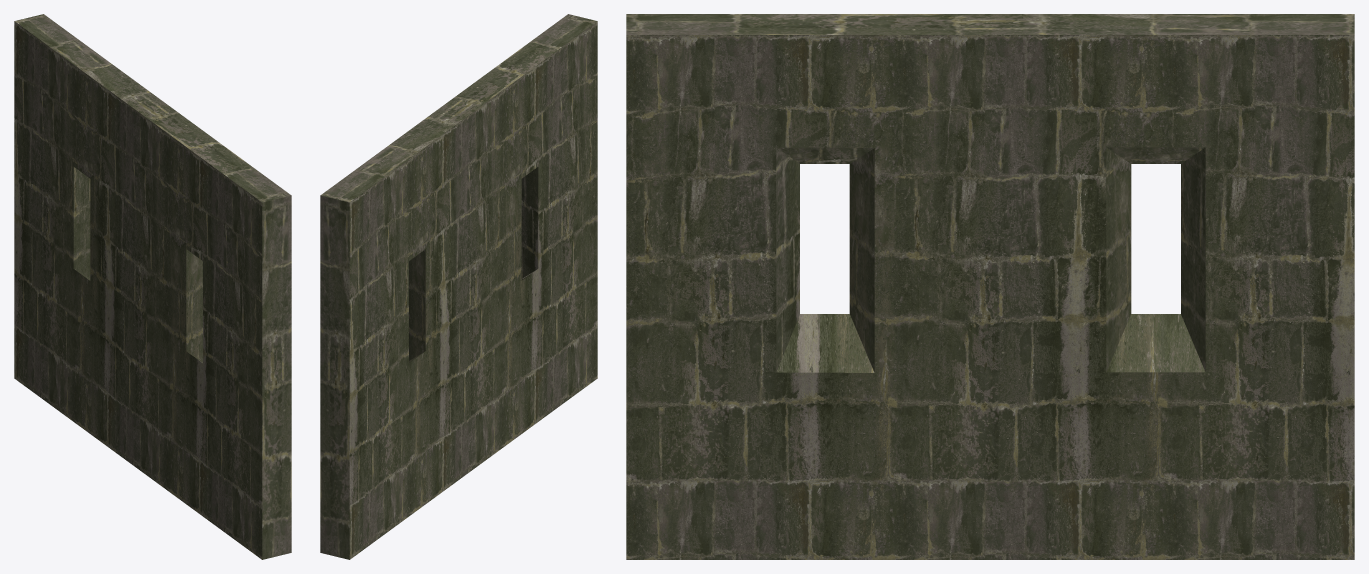
Rendered from Wall_DoubleArrowslit.fbx.
3 renders of one model, left to right at view 1: azimuth 30°, elevation 25°; view 2: azimuth 150°, elevation 25°; view 3: azimuth 270°, elevation 25°, orthographic. The views are drawn at different scales.
Parts seen in each view (by area): view 1: Wall_DoubleArrowslit; view 2: Wall_DoubleArrowslit; view 3: Wall_DoubleArrowslit.
Boxes of the visible parts, <box> form: Wall_DoubleArrowslit: <box>14,14,291,559</box>; Wall_DoubleArrowslit: <box>320,14,597,559</box>; Wall_DoubleArrowslit: <box>626,14,1354,559</box>.
Bounding box in the file's own units: 51 × 595 × 748.
